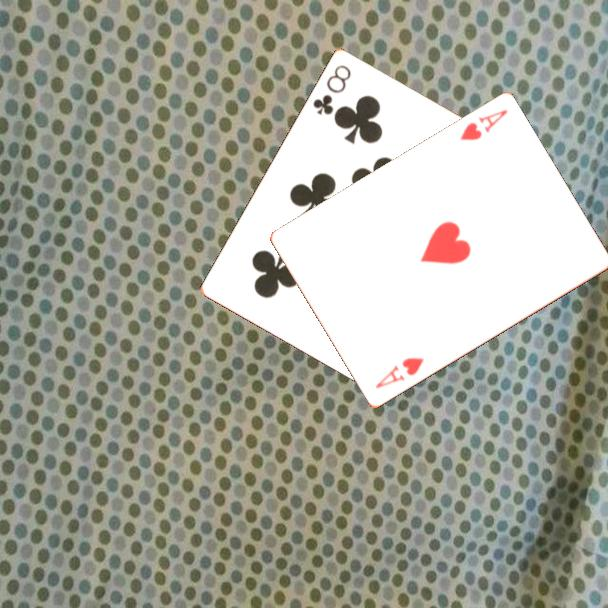c08: (309, 61, 354, 117)
h01: (372, 354, 427, 392), (456, 106, 511, 144)
